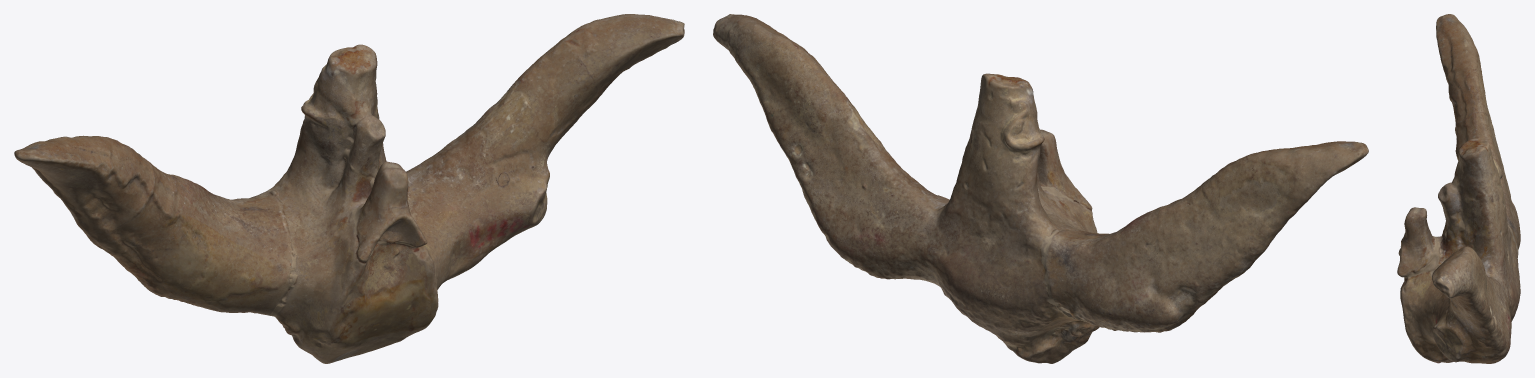
The model's file is EWS0016388.glb.
The picture shows the model from 3 angles, left to right: view 1: azimuth 30°, elevation 25°; view 2: azimuth 150°, elevation 25°; view 3: azimuth 270°, elevation 25°; orthographic projection. The views are drawn at different scales.
Parts seen in each view (by area): view 1: input; view 2: input; view 3: input.
Boxes of the visible parts, x1,y1,x2,y2 form: input: [14, 14, 684, 363]; input: [713, 14, 1368, 363]; input: [1397, 14, 1520, 363].
Size of the model in its own units: 0.1288 by 0.0542 by 0.0269.
1 material, 1 textured.
